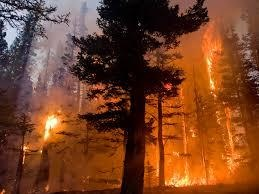fire: (205, 38, 221, 96), (37, 109, 61, 144)
